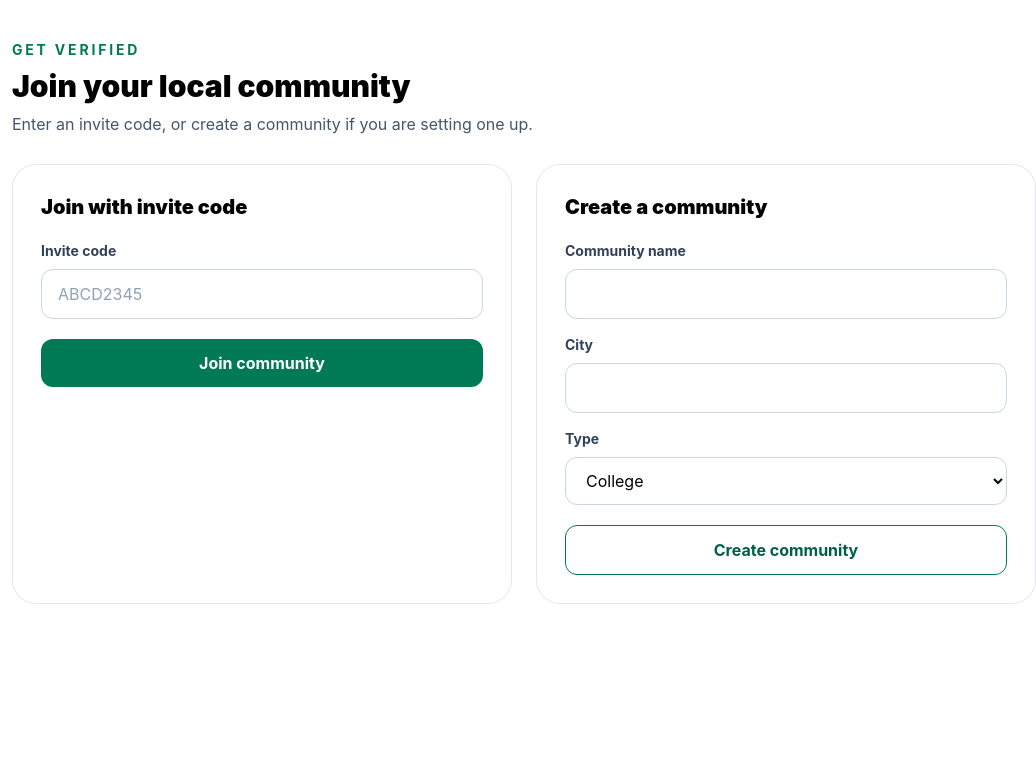
CommunityPanel › lets an unassigned user join with an invite code
The image size is (1036, 768).
Type "abcd2345" into the field labelled "Invite code" at (262, 294), box top-left (41, 269), bottom-right (483, 319)
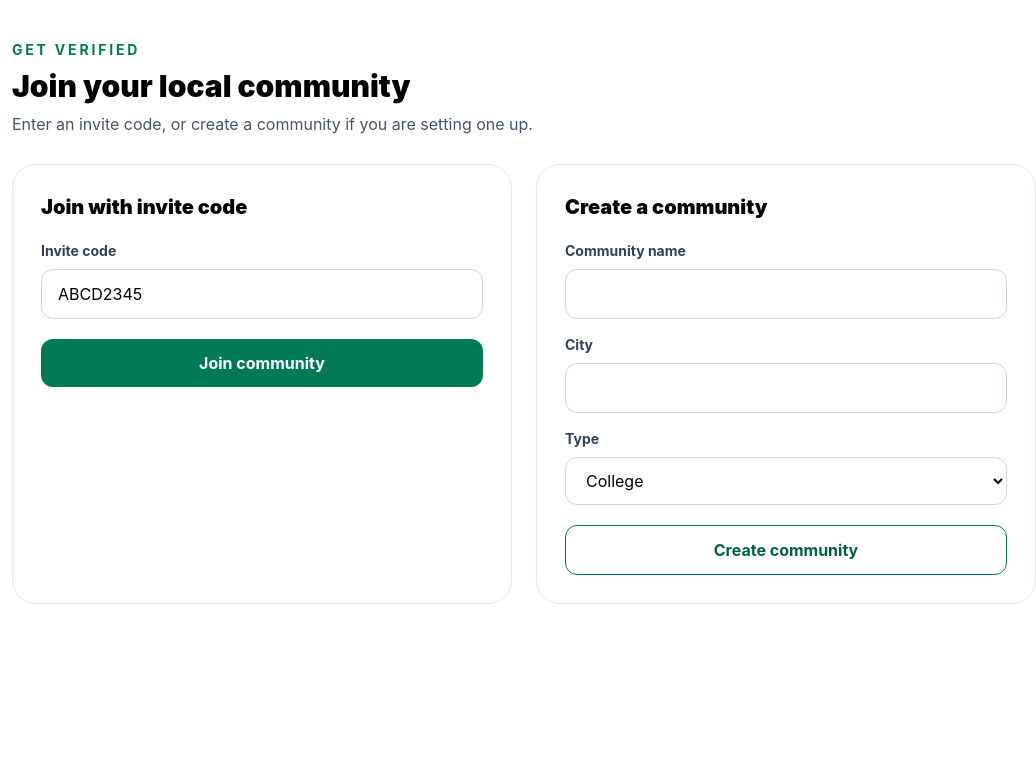
Click the button "Join community" at (262, 363), box top-left (41, 339), bottom-right (483, 387)
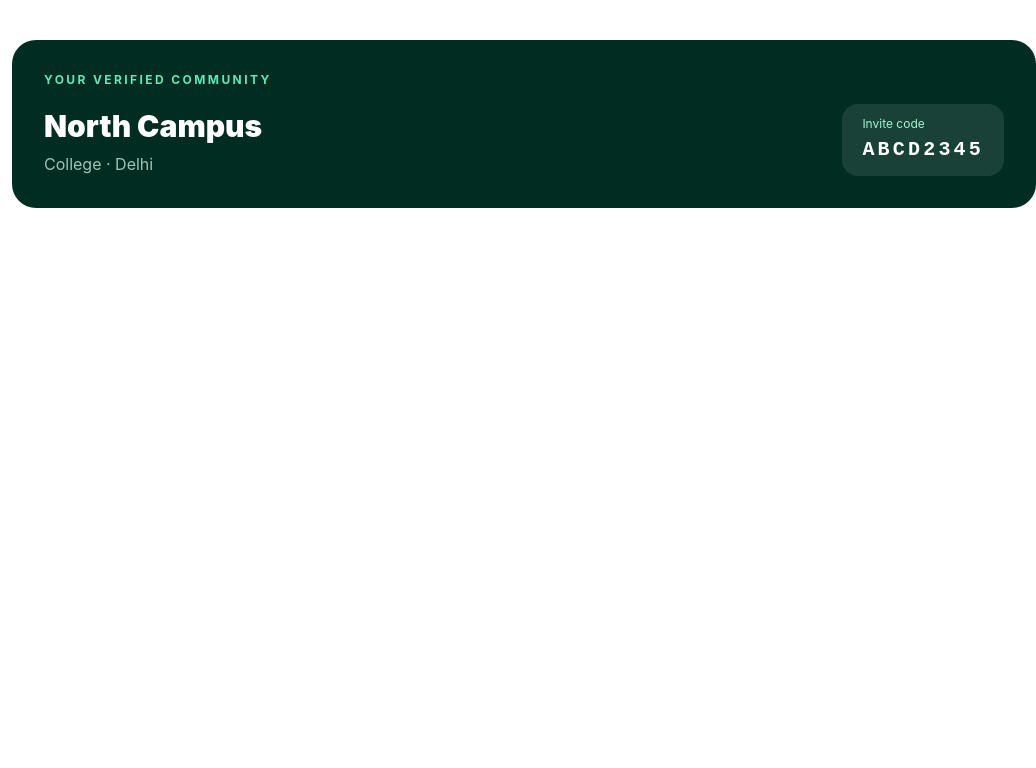
Check: the heading "North Campus" is shown, box top-left (44, 108), bottom-right (262, 144)
